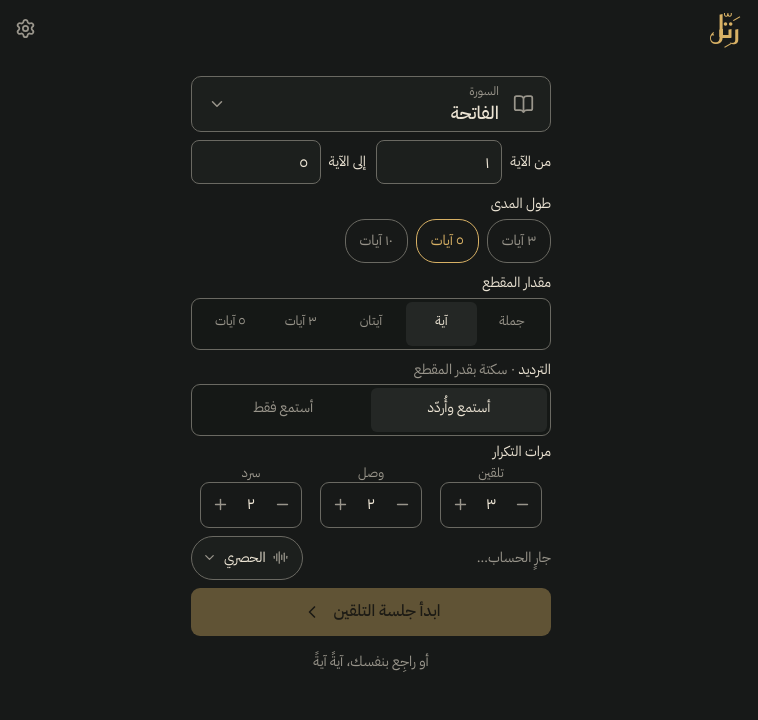
catalogue and persisted state › keeps looping across a move, and shows each new ayah
The width and height of the screenshot is (758, 720).
What coordinates should you click on to do the following:
click the button "أو راجِع بنفسك، آيةً آيةً"
I would click on:
 (371, 662)
Its box is [191,640,551,684].
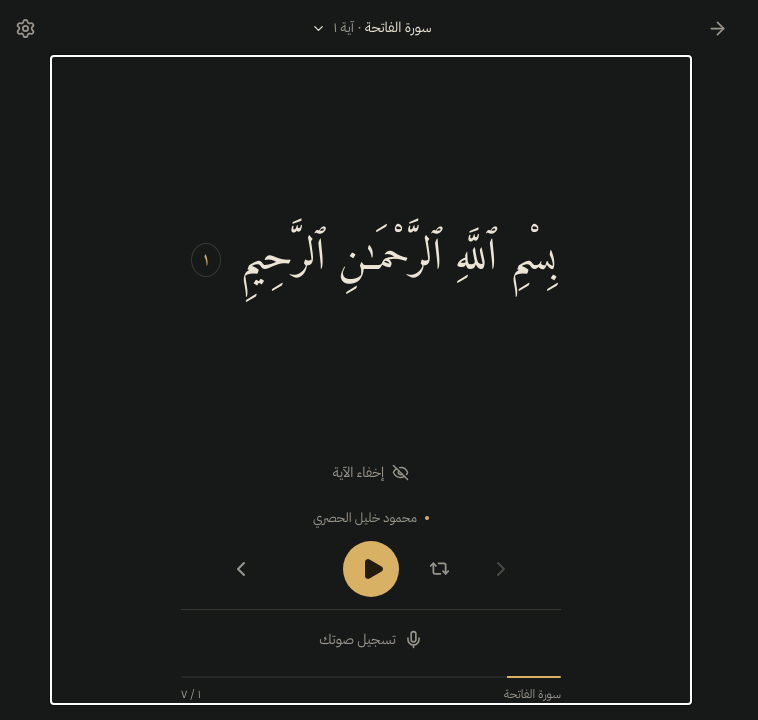
What coordinates should you click on to do the following:
click the button named "تكرار التلاوة"
I would click on:
 (439, 569)
Its box is [417,547,461,591].
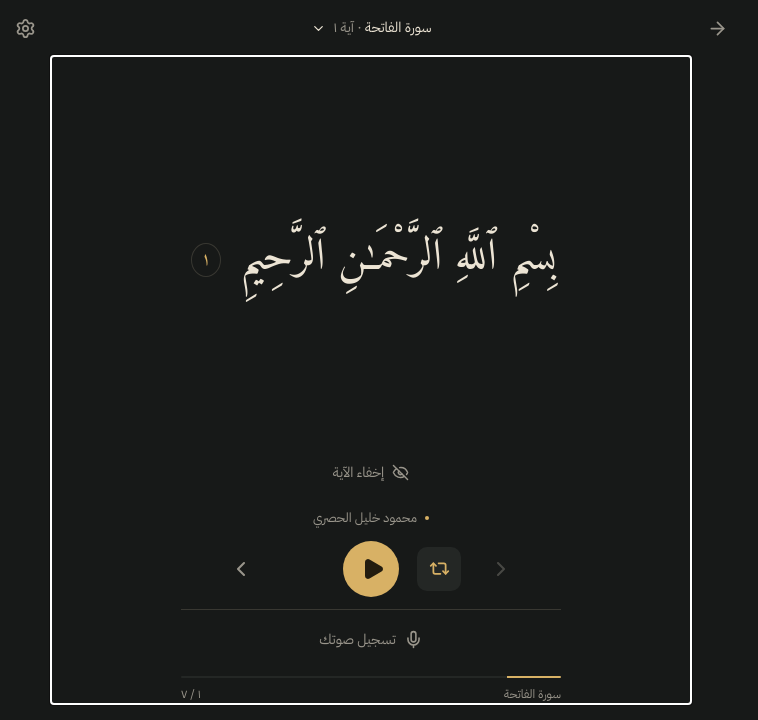
Now the button named "تكرار التلاوة" is pressed, box [417,547,461,591]
What coordinates should you click on to do the following:
click the button "إخفاء الآية"
I would click on:
 (371, 472)
Its box is [317,450,425,494].
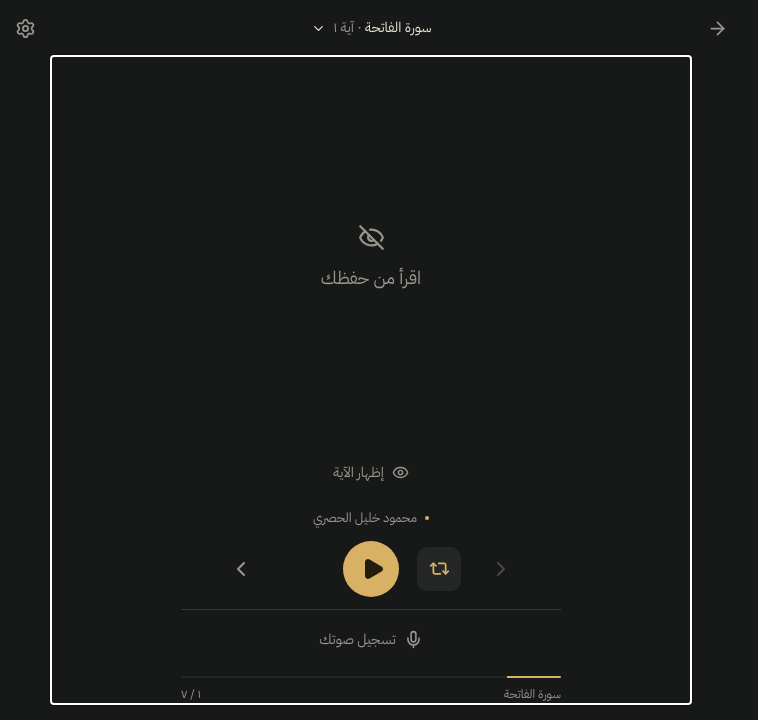
What coordinates should you click on to do the following:
click the button named "الآيات التالية"
I would click on:
 (241, 569)
Its box is [219,547,263,591].
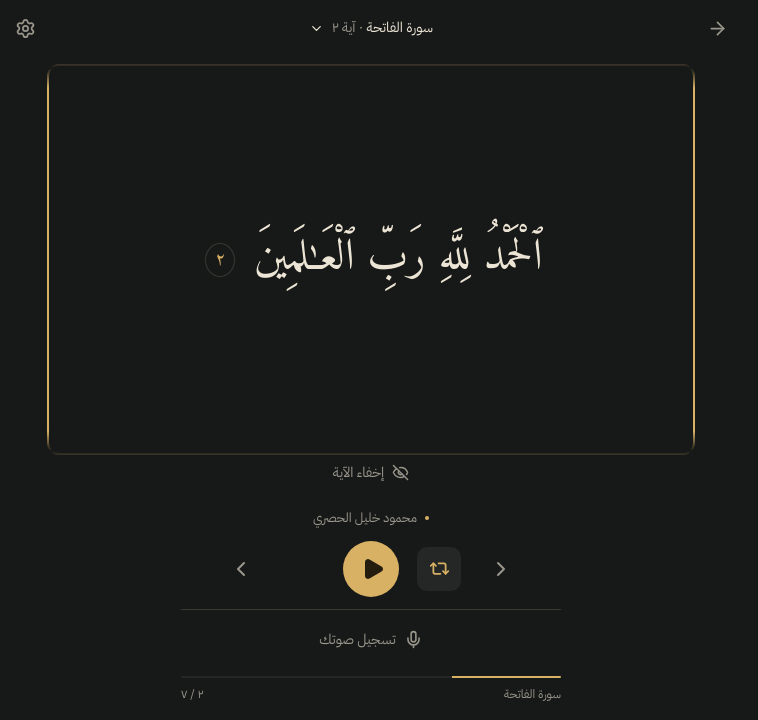
Now the button "إخفاء الآية" is shown, box [317,450,425,494]
